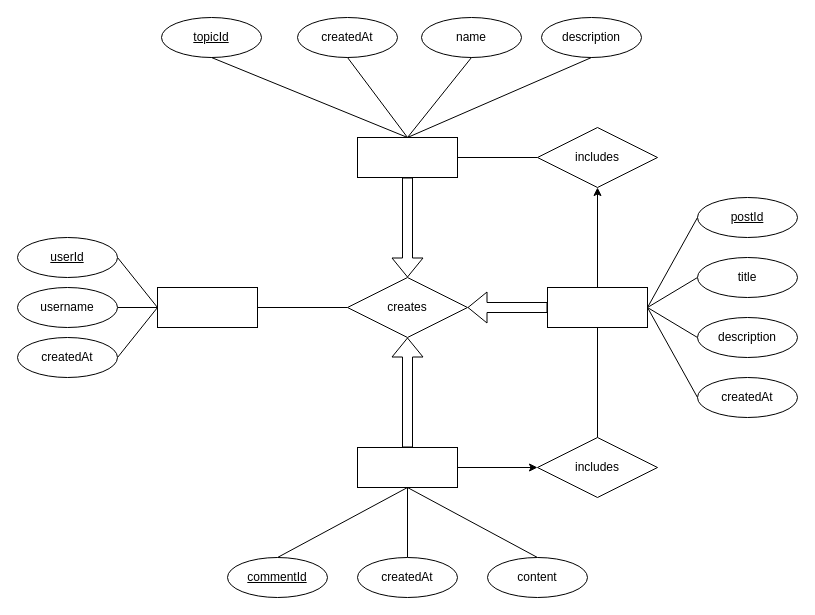
Some shapes in this 815 by 615 pixel diagram are drawn without their labels. The centre of each missing label's shape, as x and y in pixels:
Comment: (x=407, y=467)
Post: (x=597, y=307)
Topic: (x=407, y=157)
User: (x=207, y=307)
